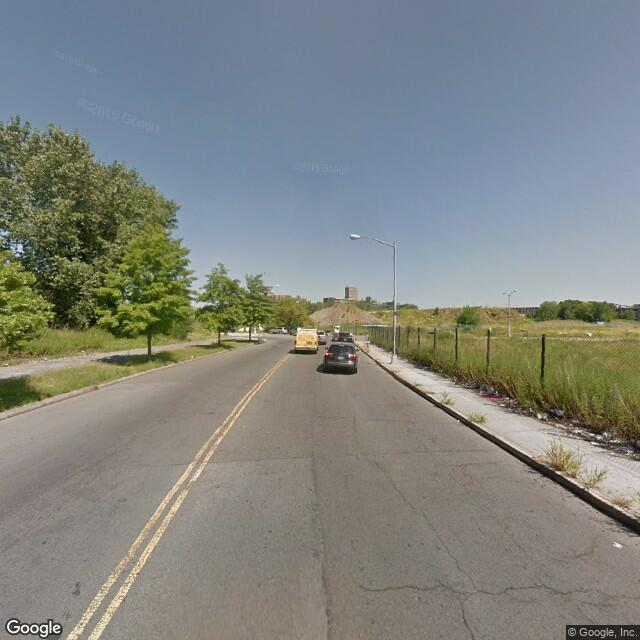litter: (525, 405, 567, 422), (481, 382, 505, 401), (589, 428, 613, 442)
